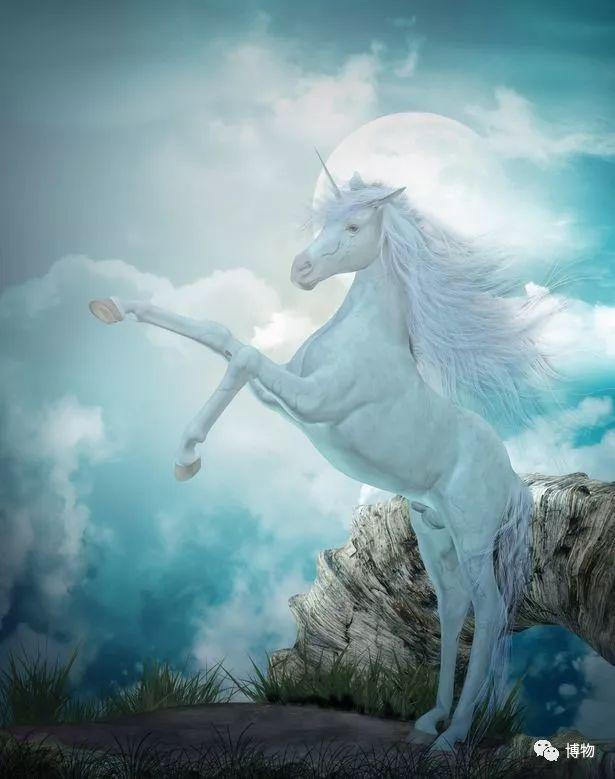background: (83, 139, 576, 763)
